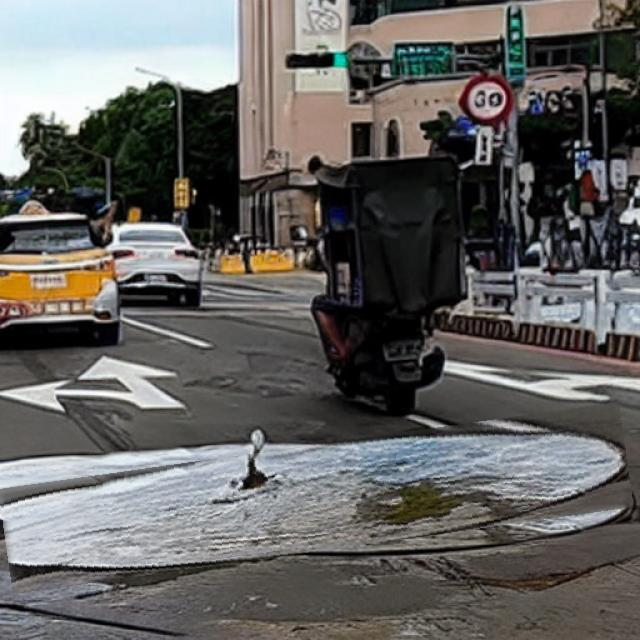puddle: (1, 424, 632, 573)
